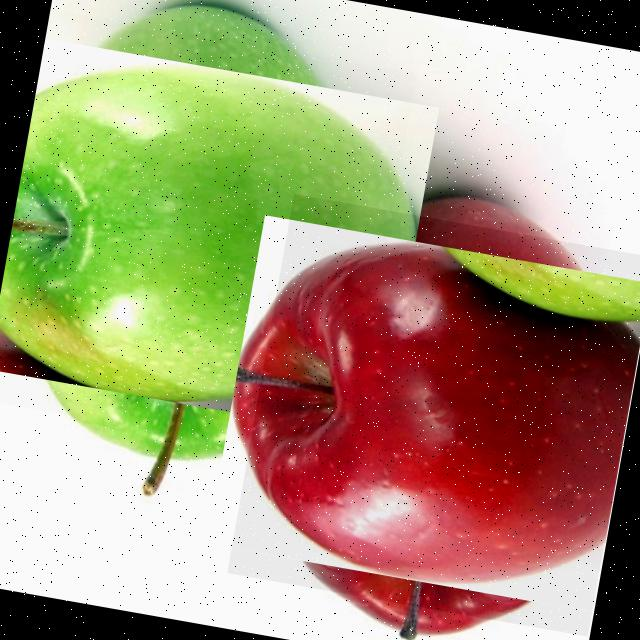Fresh Apple: (0, 7, 418, 465), (227, 192, 639, 637)
